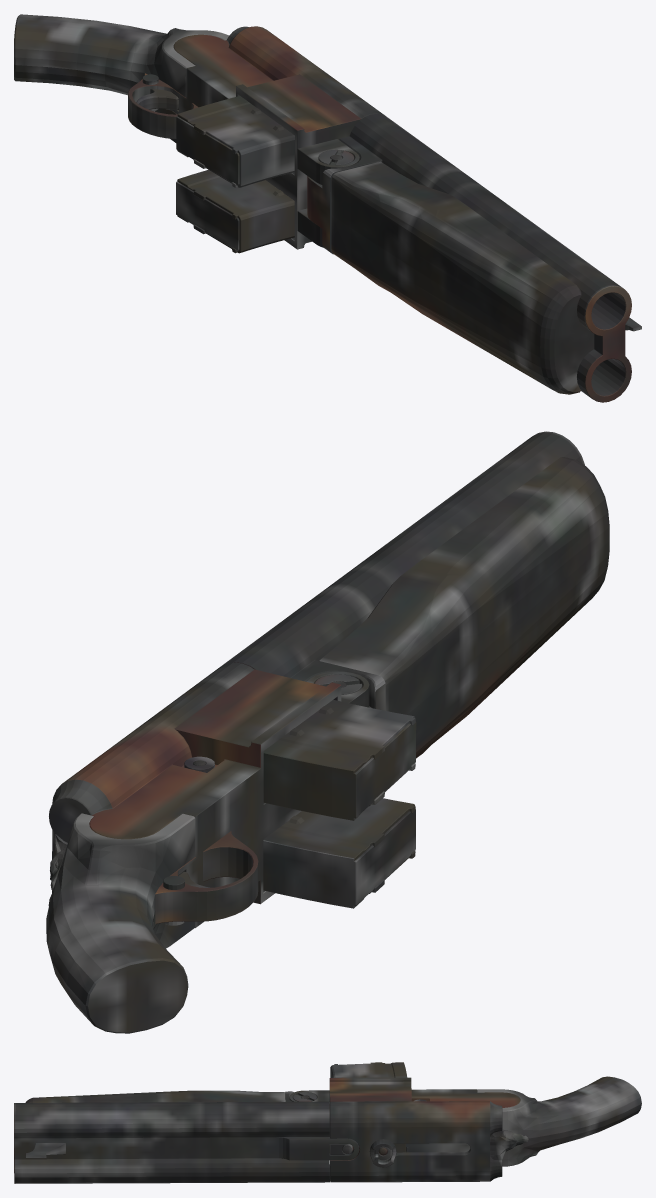
The model's file is coyote-a.obj.
3 views of the same model, one above another, from view 1: azimuth 30°, elevation 25°; view 2: azimuth 150°, elevation 25°; view 3: azimuth 270°, elevation 25° (orthographic). The views are drawn at different scales.
Parts seen in each view (by area): view 1: coyote-a; view 2: coyote-a; view 3: coyote-a.
Part boxes in pixels (x1,y1,x2,y2): coyote-a: [14, 14, 641, 402]; coyote-a: [46, 431, 609, 1033]; coyote-a: [14, 1062, 641, 1183].
Bounding box in the file's own units: 0.3375 × 0.1903 × 1.35.
